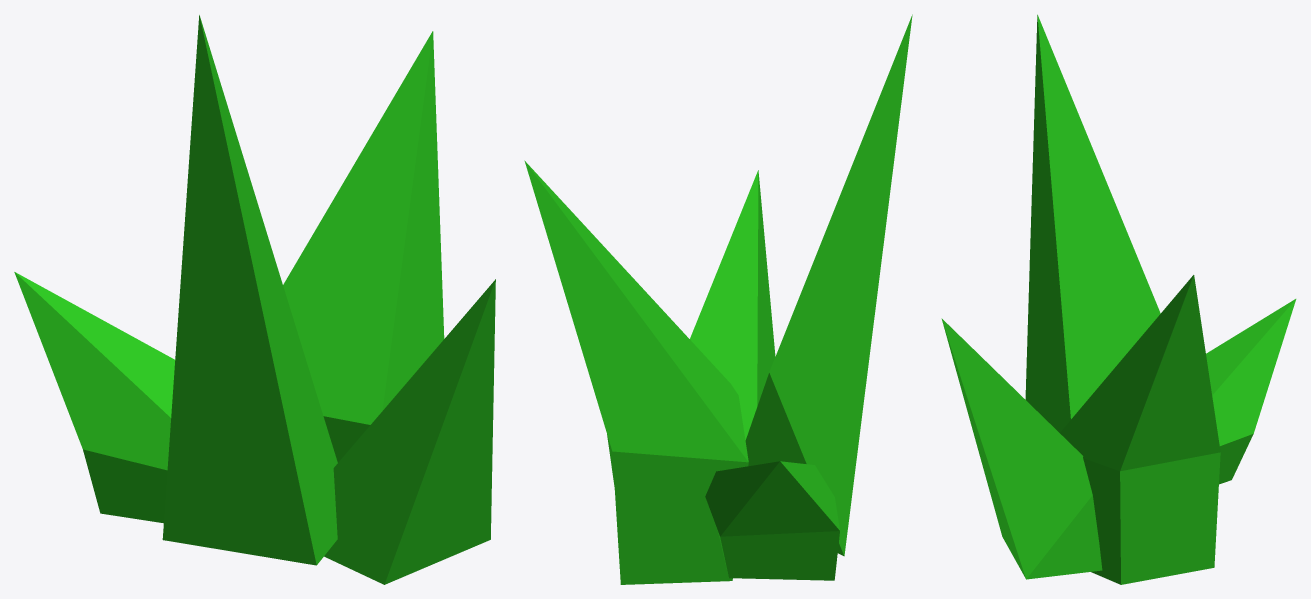
The model's file is Grass_T2.fbx.
3 renders of one model, left to right at view 1: azimuth 30°, elevation 25°; view 2: azimuth 150°, elevation 25°; view 3: azimuth 270°, elevation 25°, orthographic. The views are drawn at different scales.
Parts seen in each view (by area): view 1: Grass_T2; view 2: Grass_T2; view 3: Grass_T2.
Part boxes in pixels (left/top/right/bottom): Grass_T2: left=14, top=15, right=495, bottom=584; Grass_T2: left=524, top=14, right=912, bottom=584; Grass_T2: left=941, top=14, right=1296, bottom=584.
Bounding box in the file's own units: 24.51 × 40.52 × 27.51.
